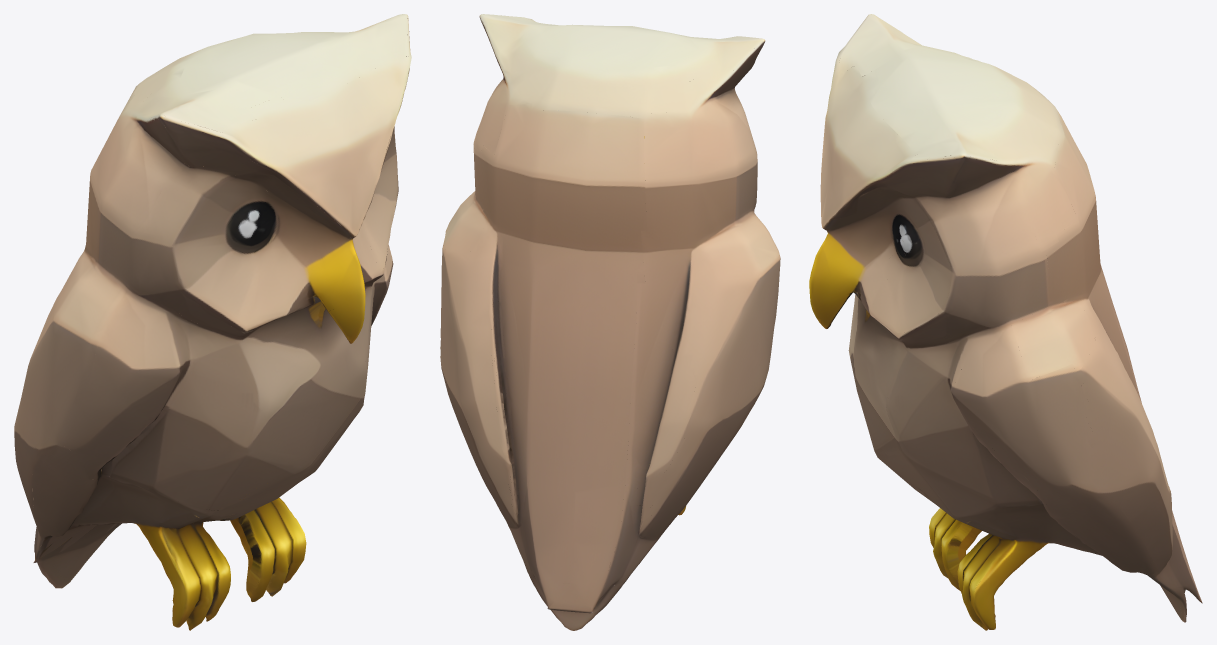
File: owl.glb
3 views of the same model, side by side, from view 1: azimuth 30°, elevation 25°; view 2: azimuth 150°, elevation 25°; view 3: azimuth 270°, elevation 25° (orthographic). The views are drawn at different scales.
Parts seen in each view (by area): view 1: owl; view 2: owl; view 3: owl.
Boxes of the visible parts, x1=… form: owl: x1=14, y1=14, x2=411, y2=630; owl: x1=440, y1=14, x2=780, y2=630; owl: x1=809, y1=14, x2=1202, y2=630.
Size of the model in its own units: 0.2699 by 0.4382 by 0.2703.
Materials: 1 (1 with a texture image).
